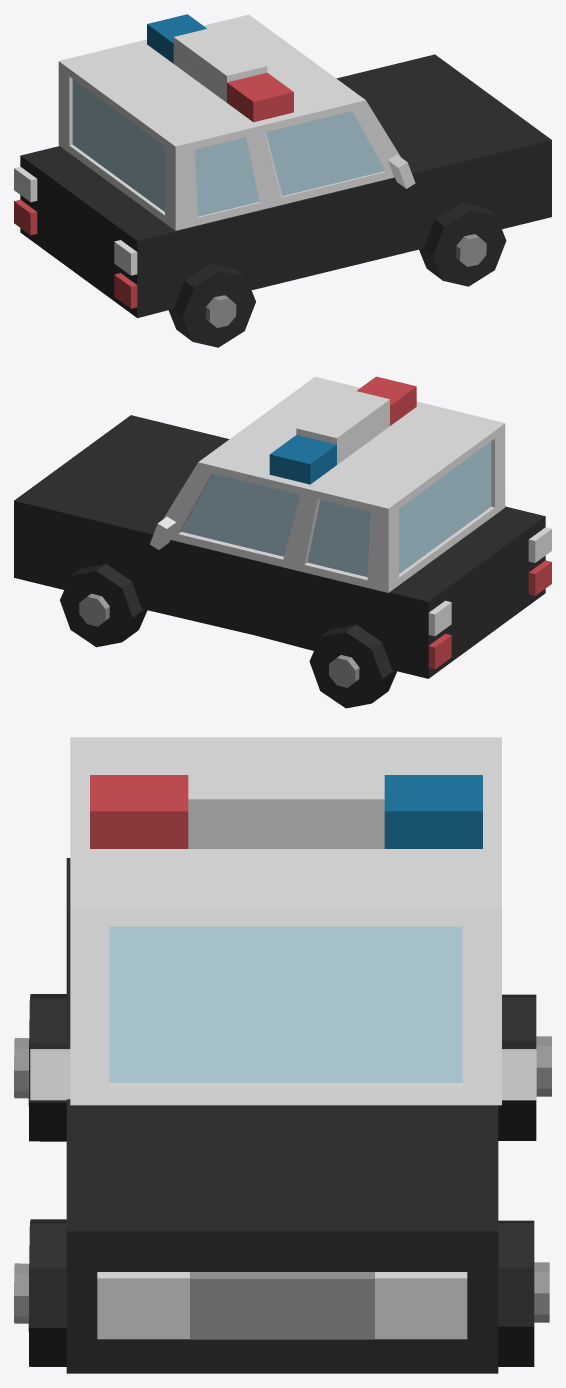
The model's file is Cop.fbx.
3 views of the same model, one above another, from view 1: azimuth 30°, elevation 25°; view 2: azimuth 150°, elevation 25°; view 3: azimuth 270°, elevation 25° (orthographic). The views are drawn at different scales.
Parts seen in each view (by area): view 1: Body, wheel1, wheel0; view 2: Body, wheel3, wheel2; view 3: Body, wheel0, wheel2, wheel1, wheel3.
Boxes of the visible parts, left/top/right/bottom form: Body: left=14, top=14, right=551, bottom=318; wheel1: left=168, top=263, right=255, bottom=347; wheel0: left=419, top=202, right=506, bottom=286; Body: left=14, top=376, right=551, bottom=678; wheel3: left=309, top=624, right=396, bottom=708; wheel2: left=60, top=564, right=147, bottom=647; Body: left=30, top=737, right=536, bottom=1373; wheel0: left=14, top=1219, right=66, bottom=1366; wheel2: left=498, top=1220, right=549, bottom=1366; wheel1: left=14, top=994, right=66, bottom=1141; wheel3: left=498, top=994, right=551, bottom=1140.
Bounding box in the file's own units: 423 × 215 × 249.
